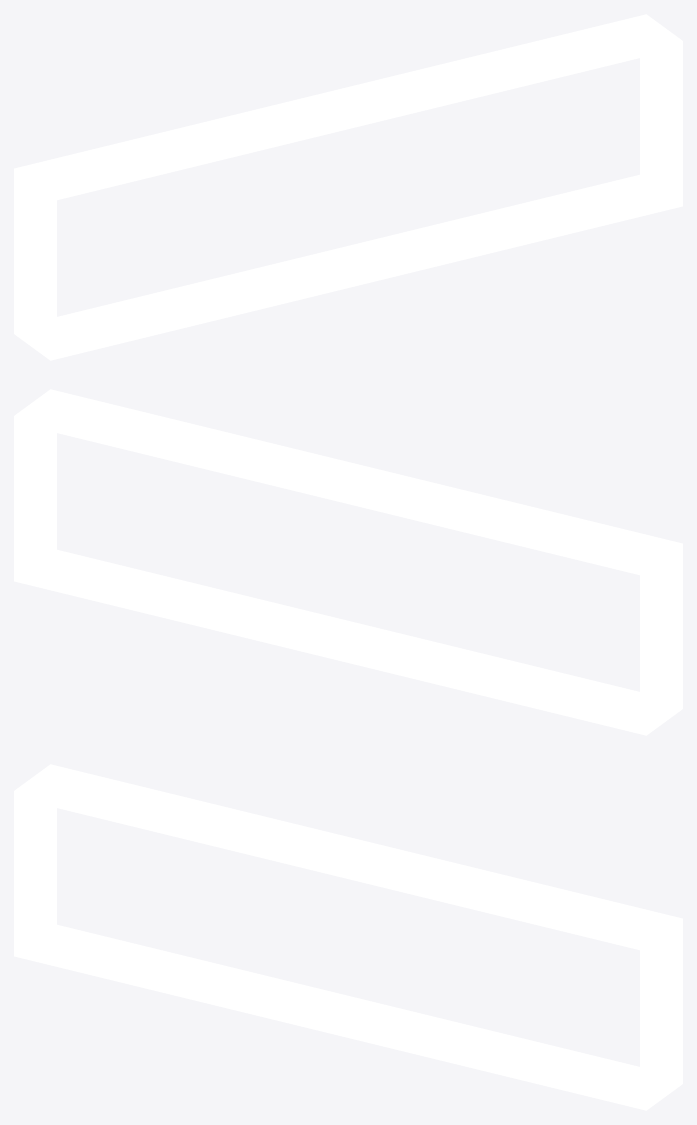
The model's file is WinFrame3x0_75Horz.gltf.
3 views of the same model, one above another, from view 1: azimuth 30°, elevation 25°; view 2: azimuth 150°, elevation 25°; view 3: azimuth 330°, elevation 25° (orthographic).
Visible parts, largest first — view 1: WinFrame3x0_75HorzShape; view 2: WinFrame3x0_75HorzShape; view 3: WinFrame3x0_75HorzShape.
Boxes of the visible parts, x1=… form: WinFrame3x0_75HorzShape: x1=14, y1=14, x2=682, y2=360; WinFrame3x0_75HorzShape: x1=14, y1=389, x2=682, y2=735; WinFrame3x0_75HorzShape: x1=14, y1=764, x2=682, y2=1110.
Bounding box in the file's own units: 300 × 75 × 30.
Materials: 1 (1 with a texture image).
